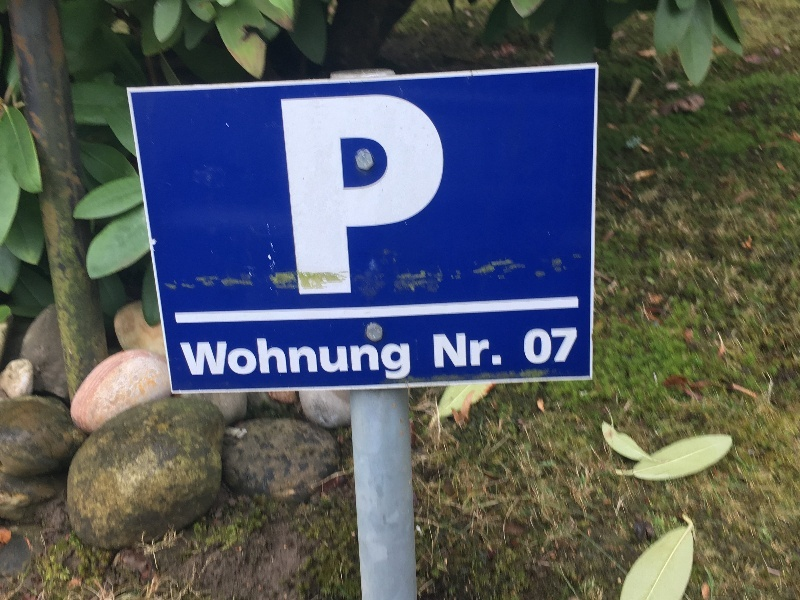text: (289, 91, 304, 296), (305, 91, 320, 296), (321, 91, 336, 296), (337, 91, 352, 296), (353, 91, 368, 296), (369, 91, 384, 296), (385, 91, 400, 296), (401, 91, 416, 296), (417, 91, 432, 296), (433, 91, 445, 296), (280, 91, 288, 296), (193, 330, 208, 381), (209, 330, 224, 381), (225, 330, 240, 381), (241, 330, 256, 381), (257, 330, 272, 381), (273, 330, 288, 381), (289, 330, 304, 381), (305, 330, 320, 381), (321, 330, 336, 381), (337, 330, 352, 381), (353, 330, 368, 381), (369, 330, 384, 381), (385, 330, 400, 381), (178, 330, 192, 381), (529, 327, 544, 367), (545, 327, 560, 367), (561, 327, 576, 367), (433, 331, 448, 370), (449, 331, 464, 370), (465, 331, 480, 370), (481, 331, 496, 370), (401, 330, 411, 381), (523, 327, 528, 367), (497, 331, 502, 370), (577, 327, 578, 367)
